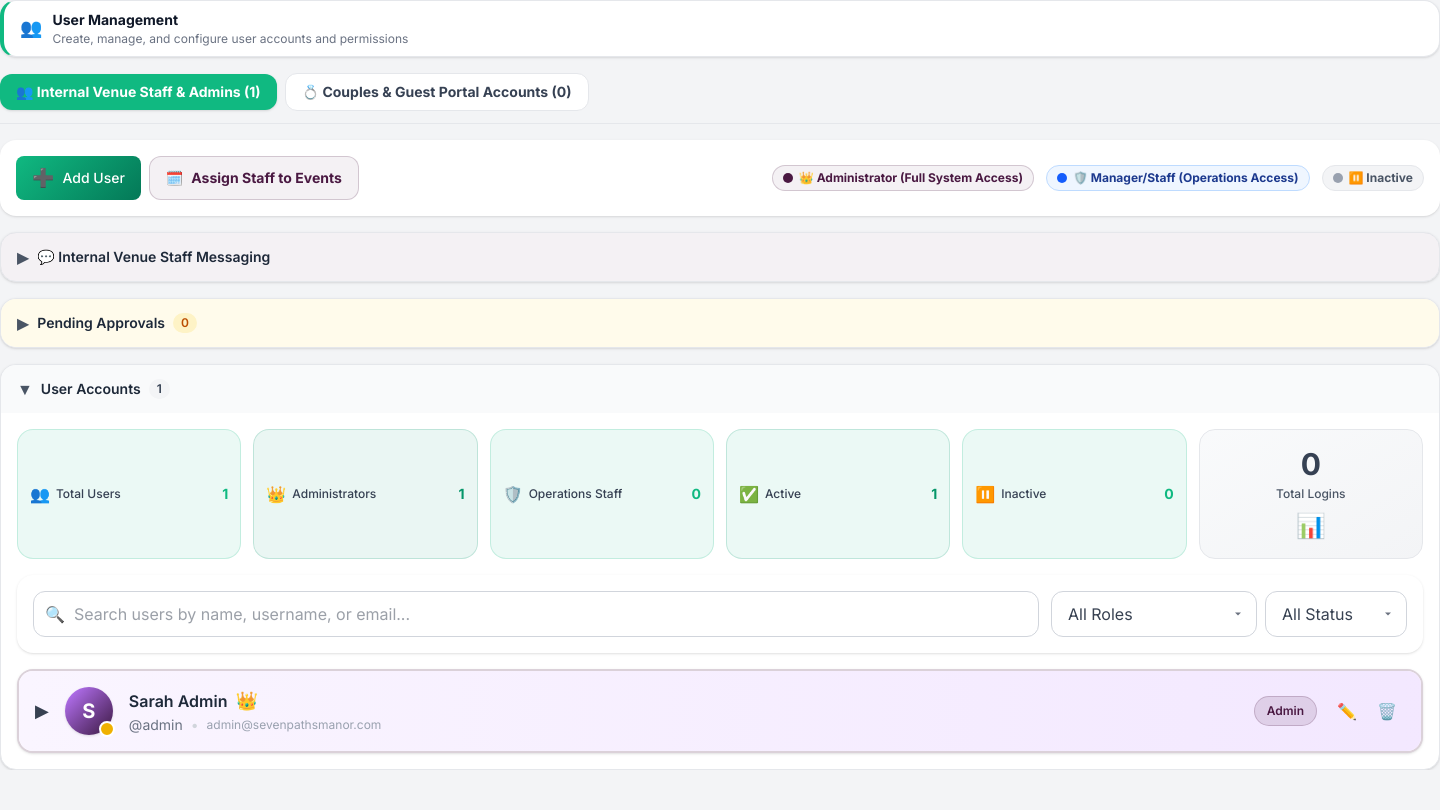
Test: Venue Portal (#/admin) — Exhaustive Universal Branding Integration (#162) › applies configured branding to Create New User Modal header gradient and Create User submit button
The width and height of the screenshot is (1440, 810).
Click + Add User to launch modal
Click the button "➕ Add User": point(78, 178) [16,156,141,200]
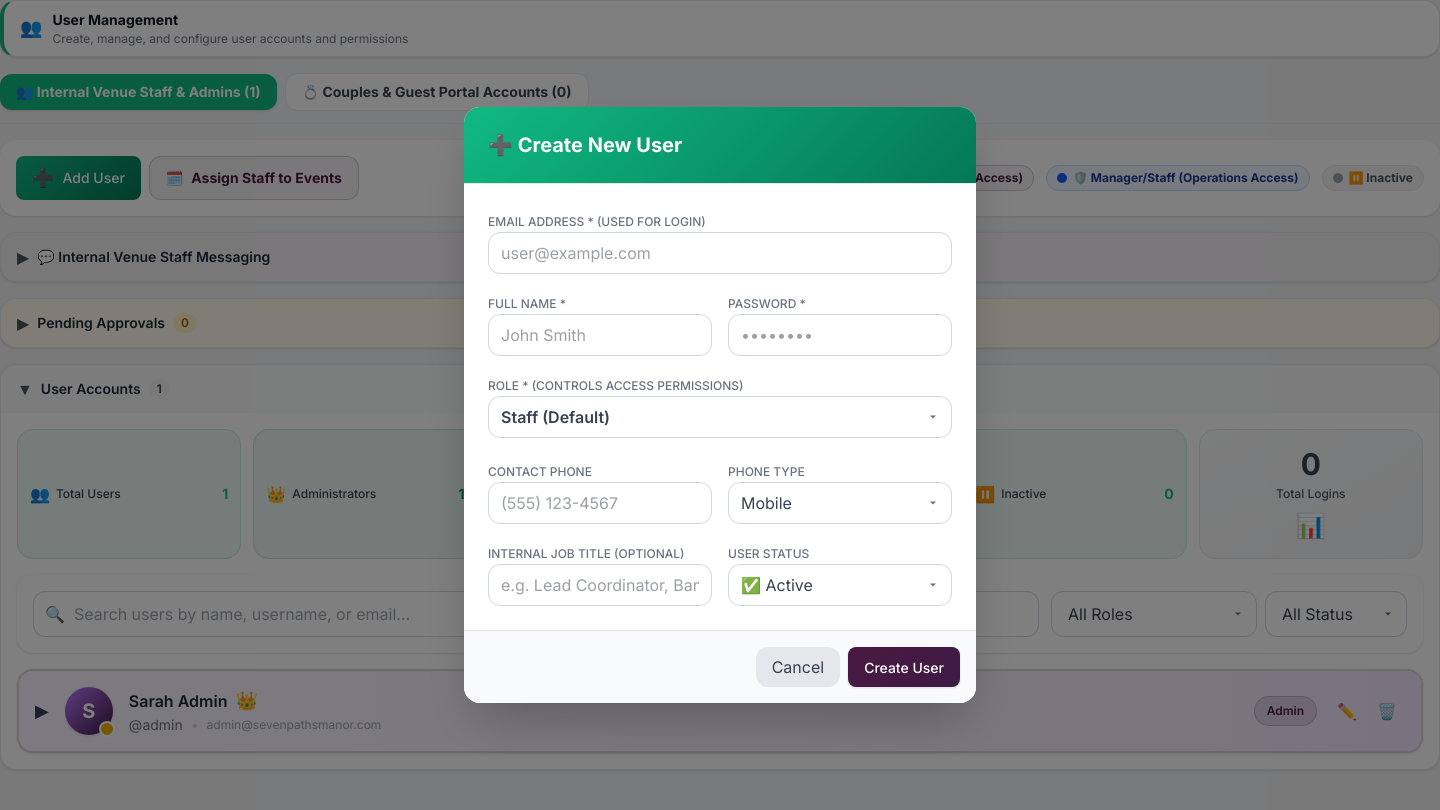
Expected: the heading "➕ Create New User" is shown, [488,133,682,157]
